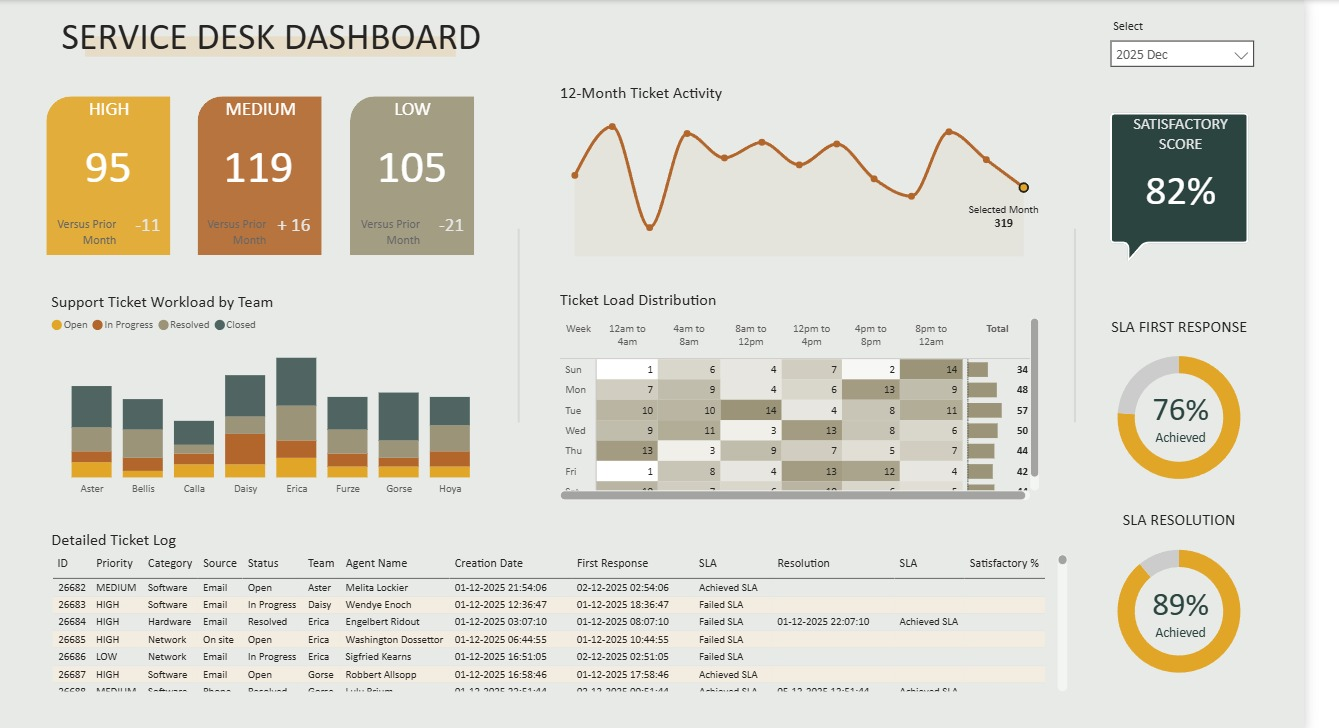

This screenshot's page, from the dashboard's own definition file:
{"tool":"powerbi","page":{"name":"Dashboard","canvas":[1280,720],"ordinal":0},"visuals":[{"type":"shape","box":[84,36,364,20],"z":0},{"type":"textbox","box":[45,8,442,56],"z":1000},{"type":"slicer","fields":{"Values":["dimDate (2).Year Month"]},"box":[1080,14,161,66],"z":2000},{"type":"shape","box":[45,94,122,156],"z":3000},{"type":"shape","box":[194,94,122,156],"z":4000},{"type":"shape","box":[343,94,122,156],"z":5000},{"type":"textbox","box":[45,206,78,44],"z":6000},{"type":"textbox","box":[193,206,78,44],"z":7000},{"type":"textbox","box":[343,206,78,44],"z":8000},{"type":"cardVisual","fields":{"Data":["Measure Table.Sel Mth High"]},"box":[45,94,122,156],"z":9000},{"type":"cardVisual","fields":{"Data":["Measure Table.Sel Mth Medium"]},"box":[193,94,122,156],"z":10000},{"type":"cardVisual","fields":{"Data":["Measure Table.Sel Mth Low"]},"box":[343,94,122,156],"z":11000},{"type":"columnChart","title":"Support Ticket Workload by Team","fields":{"Category":["_data.Team"],"Y":["Measure Table.Ticket Count"],"Series":["_data.Status"]},"box":[45,286,442,211],"z":12000},{"type":"shape","box":[498,224,22,190],"z":13000},{"type":"shape","box":[1044,224,22,190],"z":14000},{"type":"lineChart","title":"12-Month Ticket Activity","fields":{"Category":["dimDate.Year Month"],"Y":["Measure Table.Sel 12M Ticket","Measure Table.Ticket Count"]},"box":[545,81,480,176],"z":15000},{"type":"pivotTable","title":"Ticket Load Distribution","fields":{"Rows":["dimDate.Week"],"Columns":["_data.Time Category"],"Values":["Measure Table.Ticket Count 2"]},"box":[545,285,480,211],"z":16000},{"type":"shape","box":[1090,110,136,148],"z":17000},{"type":"cardVisual","title":"SATISFACTORY SCORE","fields":{"Data":["Measure Table.Sel Mth Score"]},"box":[1092,112,134,124],"z":18000},{"type":"cardVisual","fields":{"Data":["Measure Table.SLA FirstResponsePercent"]},"box":[1104,368,109,83],"z":19000},{"type":"cardVisual","fields":{"Data":["Measure Table.SLA ResolutionPercent"]},"box":[1104,559,109,83],"z":20000},{"type":"donutChart","title":"SLA FIRST RESPONSE","fields":{"Y":["Measure Table.Ticket Count"],"Series":["_data.First Response SLA"]},"box":[1068,310,180,180],"z":21000},{"type":"donutChart","title":"SLA RESOLUTION","fields":{"Y":["Measure Table.Ticket Count"],"Series":["_data.Resolution SLA"]},"box":[1068,501,180,180],"z":22000},{"type":"tableEx","title":"Detailed Ticket Log","fields":{"Values":["_data.Ticket ID","_data.Priority","_data.Category","_data.Source","_data.Status","_data.Team","_data.Agent Name","_data.Creation Date and Time","_data.First Response Date and Time","_data.First Response SLA","_data.Resolution Date and Time","_data.Resolution SLA"]},"box":[46,520,1007,163],"z":23000},{"type":"advancedSlicerVisual","fields":{"Values":["_data.Priority"]},"box":[40,95,431,28],"z":24000}]}

Visuals, with their boxes on the page's 1280x720 design canvas (x1, y1, x2, y2). These are canvas units, not pixel positions in the 1339x728 screenshot, which may show the page scaled, cropped or inside an application window:
shape: rect(84, 36, 448, 56)
textbox: rect(45, 8, 487, 64)
slicer - dimDate (2).Year Month: rect(1080, 14, 1241, 80)
shape: rect(45, 94, 167, 250)
shape: rect(194, 94, 316, 250)
shape: rect(343, 94, 465, 250)
textbox: rect(45, 206, 123, 250)
textbox: rect(193, 206, 271, 250)
textbox: rect(343, 206, 421, 250)
cardVisual - Measure Table.Sel Mth High: rect(45, 94, 167, 250)
cardVisual - Measure Table.Sel Mth Medium: rect(193, 94, 315, 250)
cardVisual - Measure Table.Sel Mth Low: rect(343, 94, 465, 250)
"Support Ticket Workload by Team" columnChart: rect(45, 286, 487, 497)
shape: rect(498, 224, 520, 414)
shape: rect(1044, 224, 1066, 414)
"12-Month Ticket Activity" lineChart: rect(545, 81, 1025, 257)
"Ticket Load Distribution" pivotTable: rect(545, 285, 1025, 496)
shape: rect(1090, 110, 1226, 258)
"SATISFACTORY SCORE" cardVisual: rect(1092, 112, 1226, 236)
cardVisual - Measure Table.SLA FirstResponsePercent: rect(1104, 368, 1213, 451)
cardVisual - Measure Table.SLA ResolutionPercent: rect(1104, 559, 1213, 642)
"SLA FIRST RESPONSE" donutChart: rect(1068, 310, 1248, 490)
"SLA RESOLUTION" donutChart: rect(1068, 501, 1248, 681)
"Detailed Ticket Log" tableEx: rect(46, 520, 1053, 683)
advancedSlicerVisual - _data.Priority: rect(40, 95, 471, 123)
